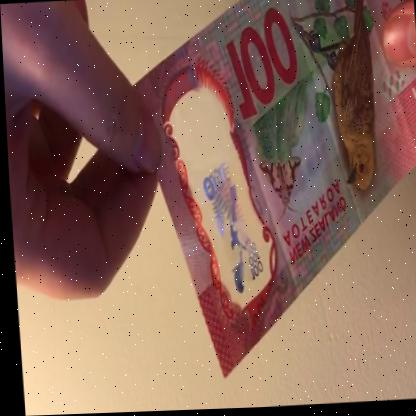100B: (195, 152, 264, 302)
